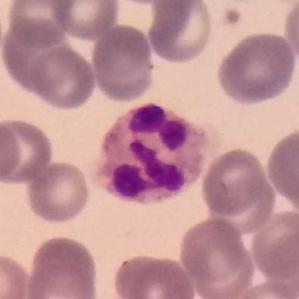Neutrophil: (91, 100, 212, 212)
RBC: (214, 29, 298, 107), (176, 215, 253, 292), (89, 22, 156, 102), (2, 16, 67, 96), (199, 146, 271, 218), (25, 232, 101, 299), (28, 42, 98, 112), (24, 158, 92, 226), (146, 0, 216, 65), (110, 251, 198, 299), (0, 115, 56, 187), (248, 207, 299, 282), (3, 0, 74, 49), (263, 127, 299, 213), (49, 0, 121, 41), (0, 118, 24, 186), (0, 250, 32, 299), (230, 278, 298, 299), (281, 0, 299, 67), (223, 6, 245, 28)
